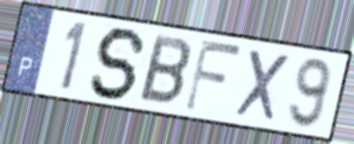1: (60, 19, 89, 94)
9: (286, 55, 333, 132)
B: (136, 32, 193, 108)
F: (182, 37, 245, 116)
S: (88, 25, 150, 102)
X: (232, 46, 293, 125)
